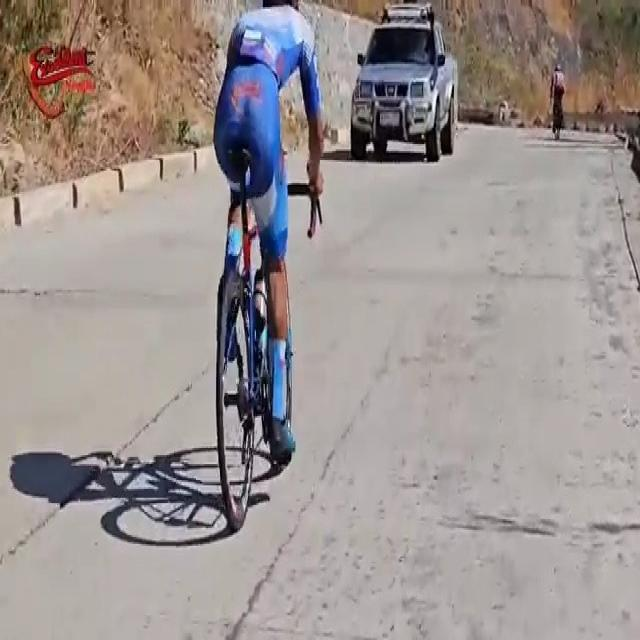bike: (208, 0, 329, 532), (549, 59, 569, 142)
car: (350, 2, 460, 168)
